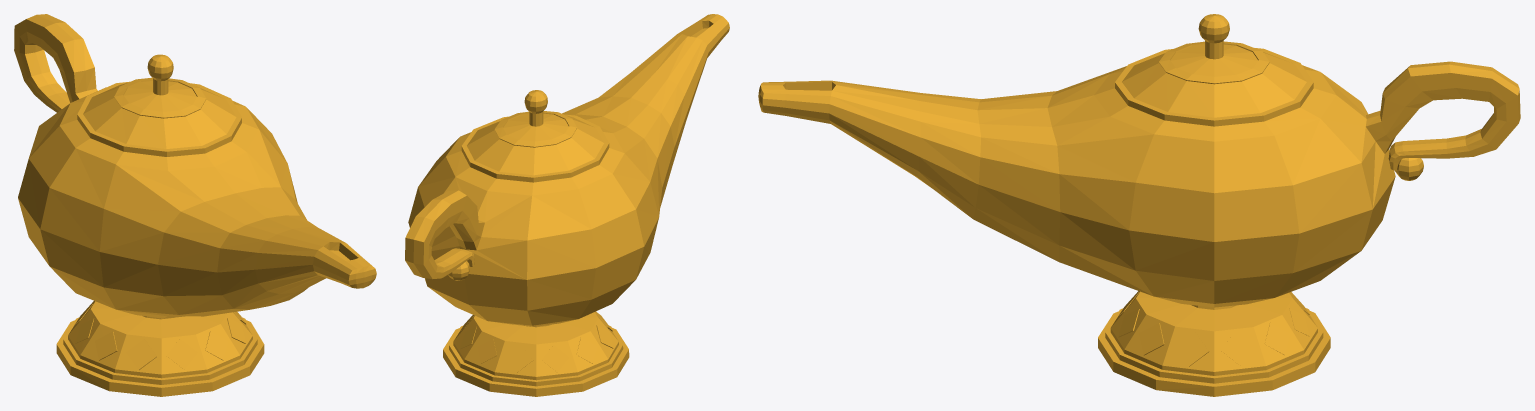
The picture shows the model from 3 angles, left to right: view 1: azimuth 30°, elevation 25°; view 2: azimuth 150°, elevation 25°; view 3: azimuth 270°, elevation 25°; orthographic projection. The views are drawn at different scales.
Visible parts, largest first — view 1: Node; view 2: Node; view 3: Node.
Boxes of the visible parts, bbox=[...] form: Node: bbox=[14, 14, 376, 396]; Node: bbox=[405, 14, 729, 396]; Node: bbox=[758, 14, 1520, 396].
Size of the model in its own units: 1.41 by 1.66 by 3.46.
